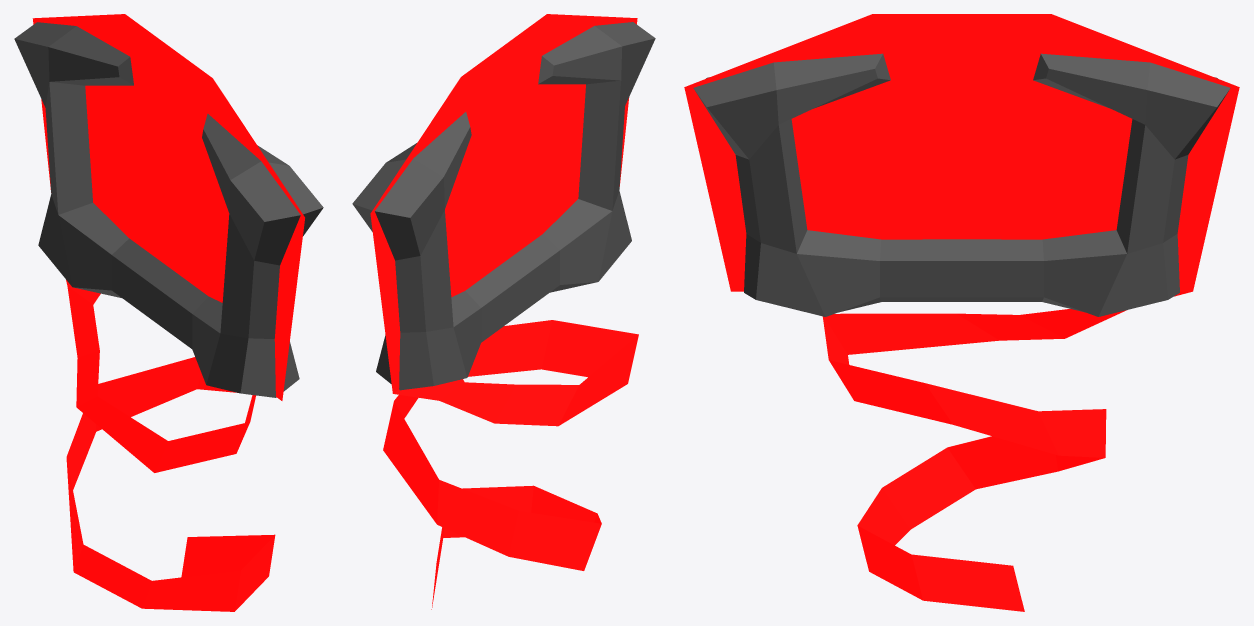
The model's file is FireballWeapon.glb.
The picture shows the model from 3 angles, left to right: view 1: azimuth 30°, elevation 25°; view 2: azimuth 150°, elevation 25°; view 3: azimuth 270°, elevation 25°; orthographic projection. The views are drawn at different scales.
Parts seen in each view (by area): view 1: Plane, Cube; view 2: Plane, Cube; view 3: Plane, Cube.
Part boxes in pixels (x1,y1,x2,y2): Plane: [32, 14, 304, 611]; Cube: [14, 22, 323, 397]; Plane: [370, 14, 638, 609]; Cube: [352, 22, 655, 390]; Plane: [684, 14, 1239, 611]; Cube: [693, 53, 1230, 316].
Bounding box in the file's own units: 0.1824 × 0.5655 × 0.4937.
